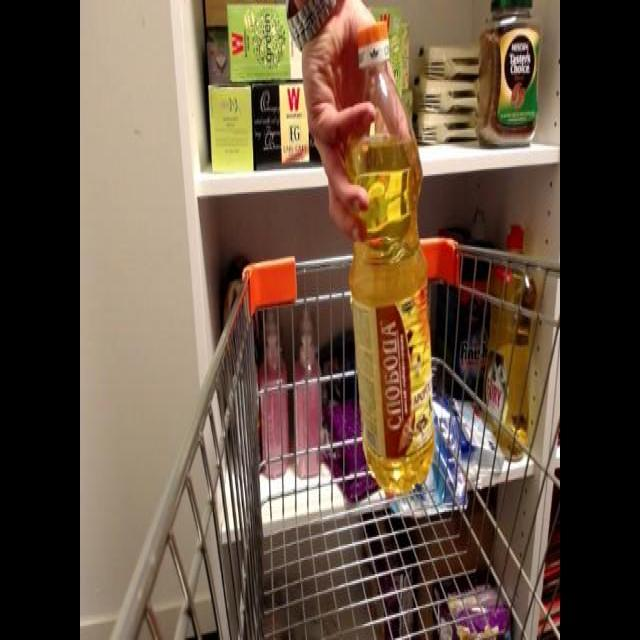Oil: (337, 18, 441, 503)
